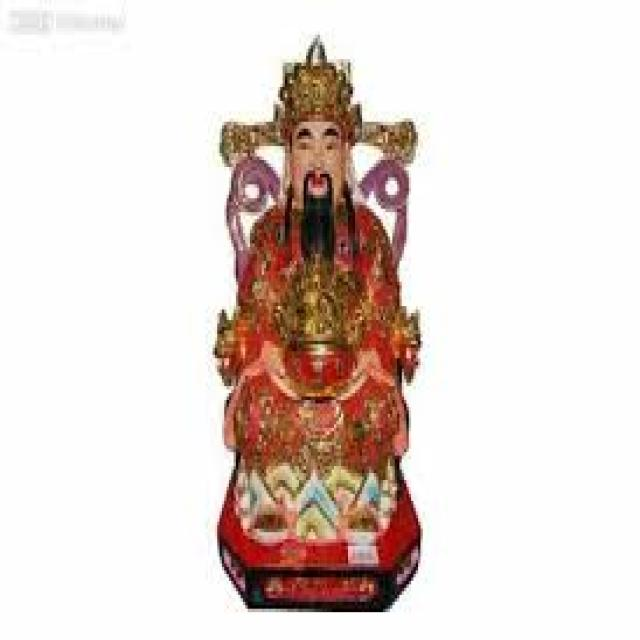Cai shen: (196, 33, 427, 521)
